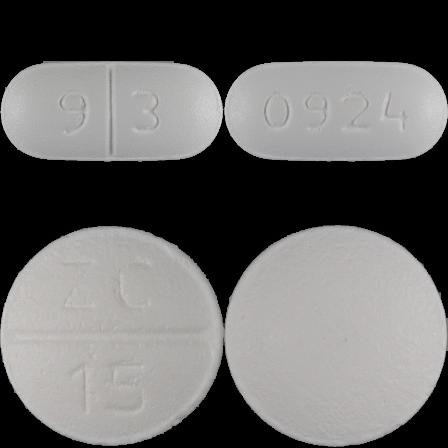21695-100: (0, 0, 224, 224)
